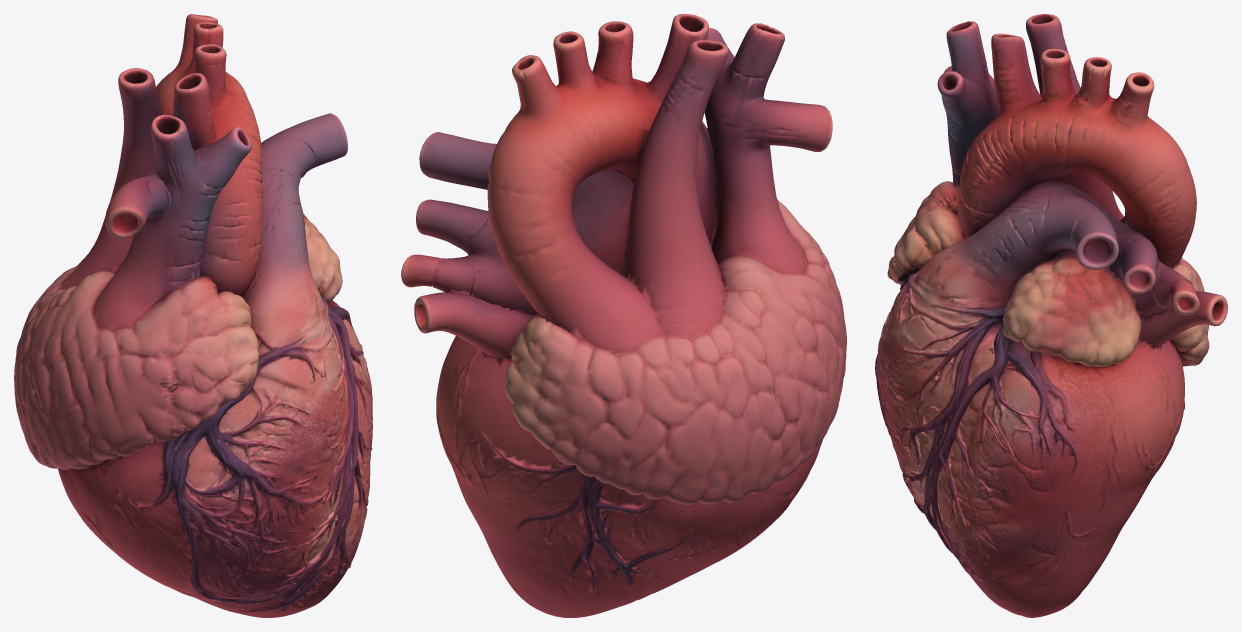
Rendered from organ-heart-interactive-lod.orig.glb.
The picture shows the model from 3 angles, left to right: view 1: azimuth 30°, elevation 25°; view 2: azimuth 150°, elevation 25°; view 3: azimuth 270°, elevation 25°; orthographic projection. The views are drawn at different scales.
Parts seen in each view (by area): view 1: tripo_node_9c16954f-d29a-4a4b-baf4-ba02eda23201; view 2: tripo_node_9c16954f-d29a-4a4b-baf4-ba02eda23201; view 3: tripo_node_9c16954f-d29a-4a4b-baf4-ba02eda23201.
Part boxes in pixels (bbox=[...]): tripo_node_9c16954f-d29a-4a4b-baf4-ba02eda23201: bbox=[14, 14, 372, 617]; tripo_node_9c16954f-d29a-4a4b-baf4-ba02eda23201: bbox=[401, 14, 846, 617]; tripo_node_9c16954f-d29a-4a4b-baf4-ba02eda23201: bbox=[875, 14, 1227, 617].
Bounding box in the file's own units: 19554 × 32128 × 19150.
Materials: 1 (1 with a texture image).
